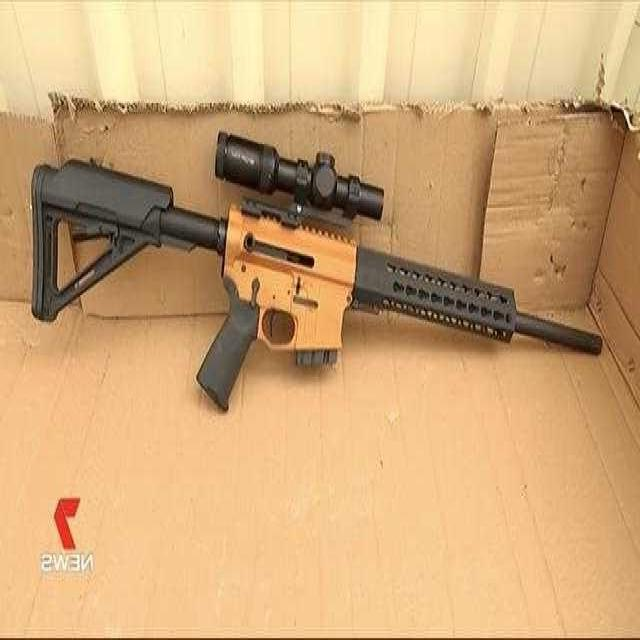heavyweapon: (13, 86, 615, 460)
